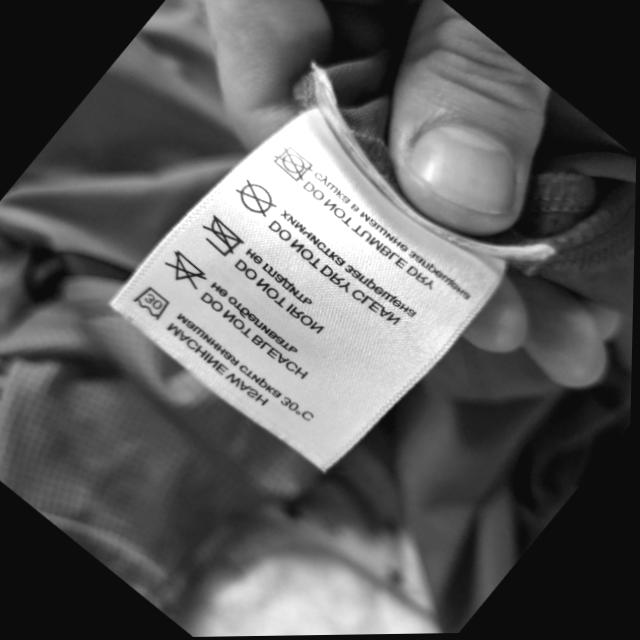30C: (136, 283, 173, 321)
DN_bleach: (167, 251, 208, 287)
DN_dry_clean: (236, 177, 279, 218)
DN_iron: (202, 216, 246, 256)
DN_tumble_dry: (277, 147, 313, 181)
